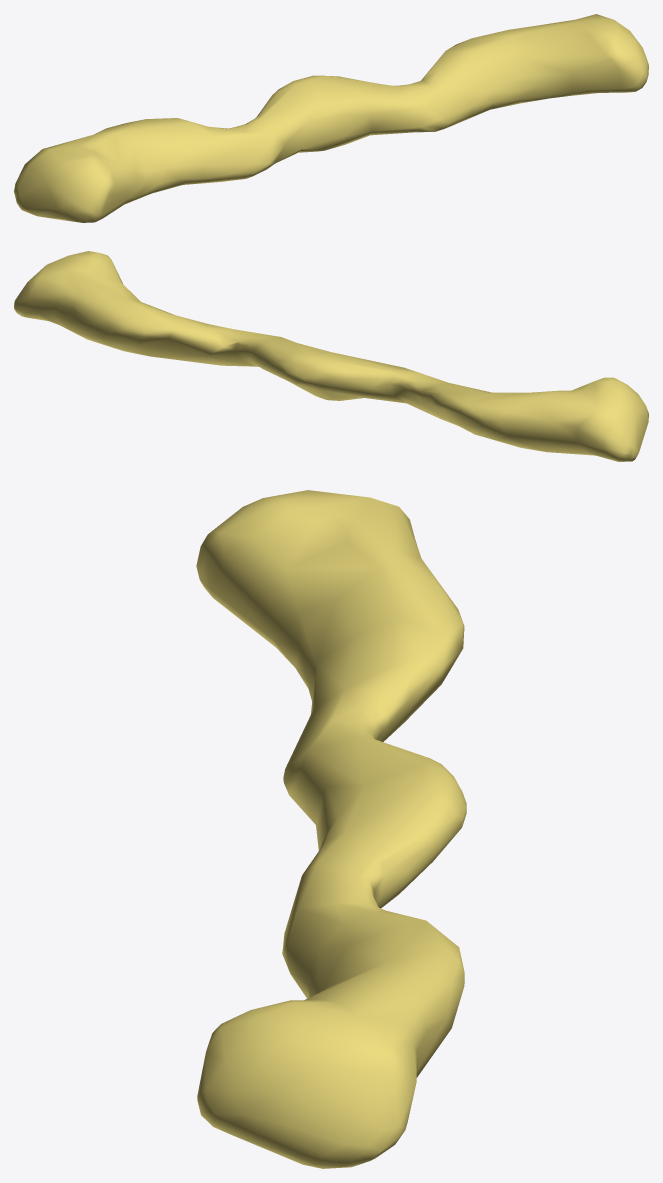
The model's file is anterior-commissure.glb.
The picture shows the model from 3 angles, top to bottom: view 1: azimuth 30°, elevation 25°; view 2: azimuth 150°, elevation 25°; view 3: azimuth 270°, elevation 25°; orthographic projection. The views are drawn at different scales.
Parts seen in each view (by area): view 1: Anterior commissure; view 2: Anterior commissure; view 3: Anterior commissure.
Part boxes in pixels (left/top/right/bottom): Anterior commissure: left=14, top=14, right=648, bottom=222; Anterior commissure: left=14, top=251, right=648, bottom=461; Anterior commissure: left=196, top=490, right=466, bottom=1168.
Size of the model in its own units: 0.0238 by 0.0025 by 0.00452.
